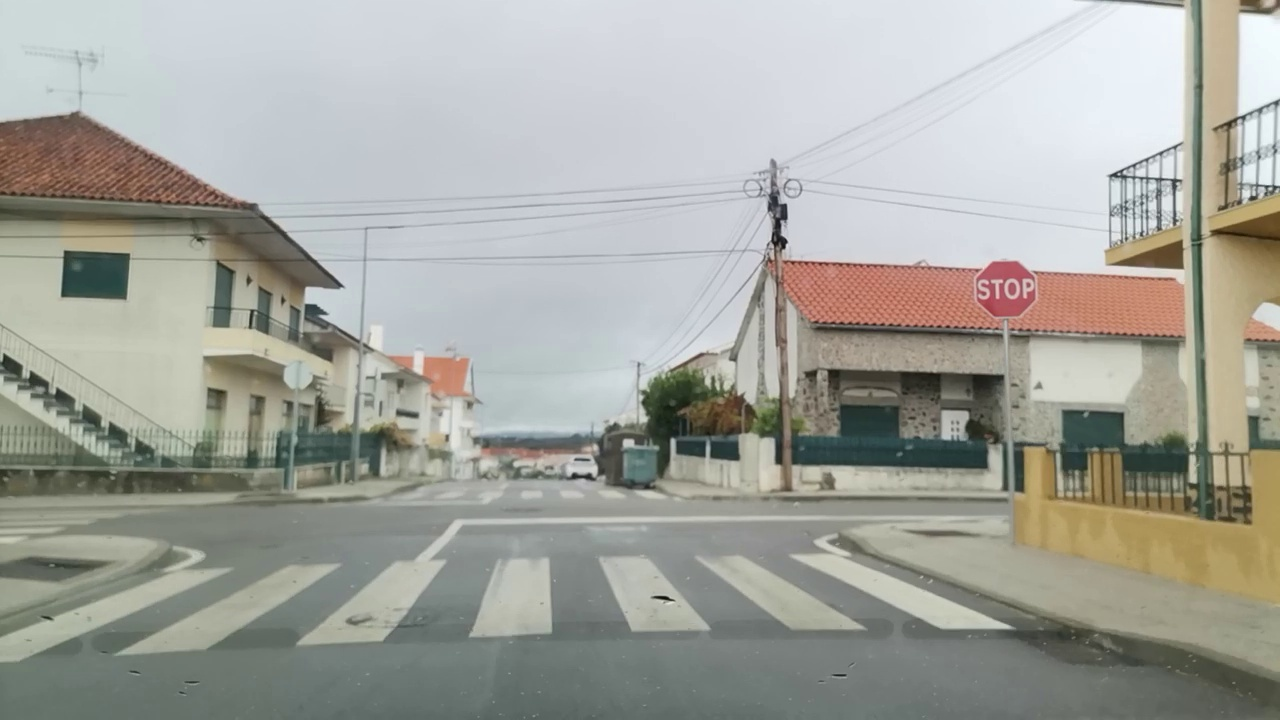Stairs: (0, 553, 1015, 659), (389, 488, 665, 502)
